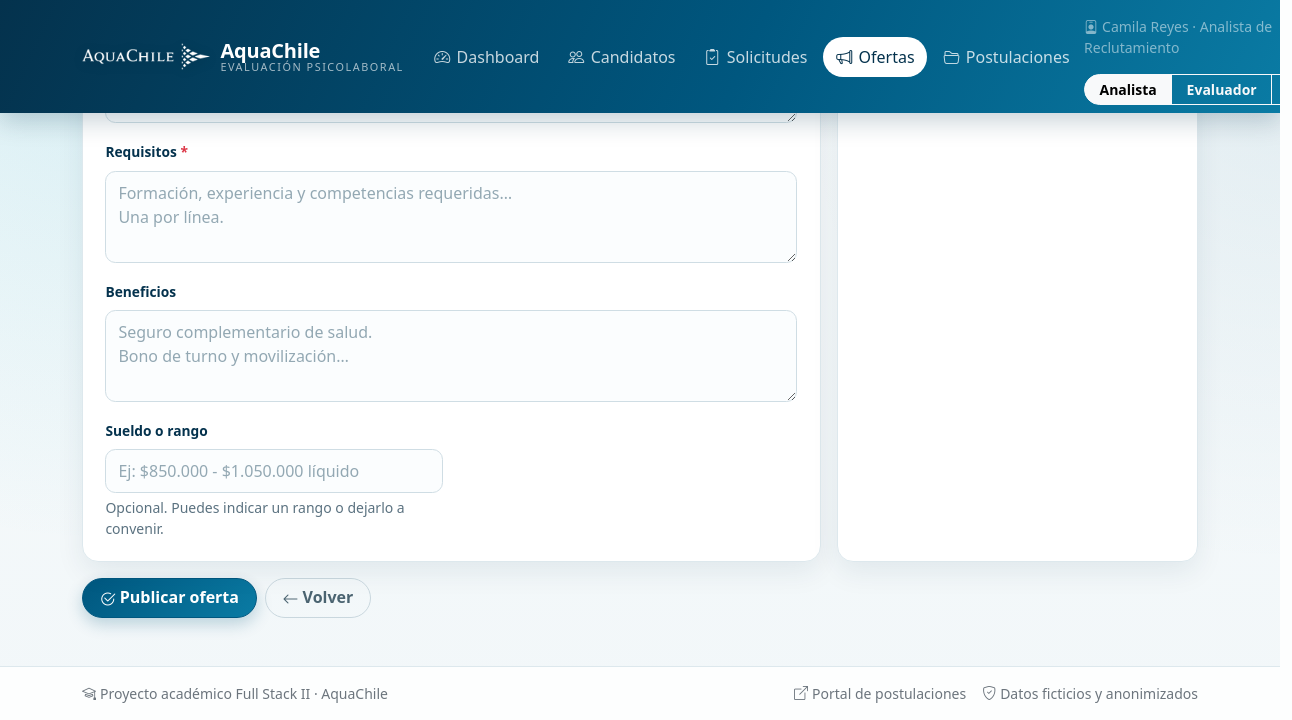
Scenario: OfertaFormPage › muestra errores al publicar sin datos
(page scrolled)
Click the button "Publicar oferta" at (169, 598), box [82,578,257,618]
(page scrolled)
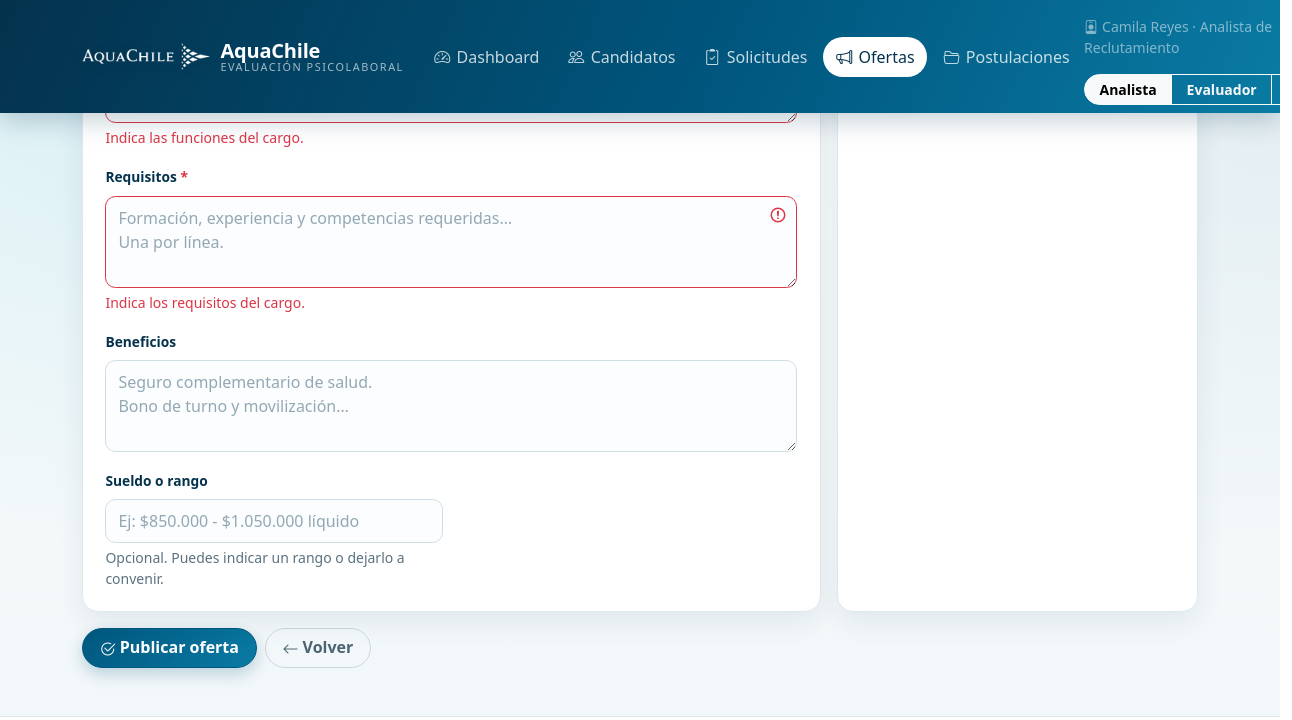
Now the text "Indica los requisitos del cargo." is shown, box [105,293,305,312]
